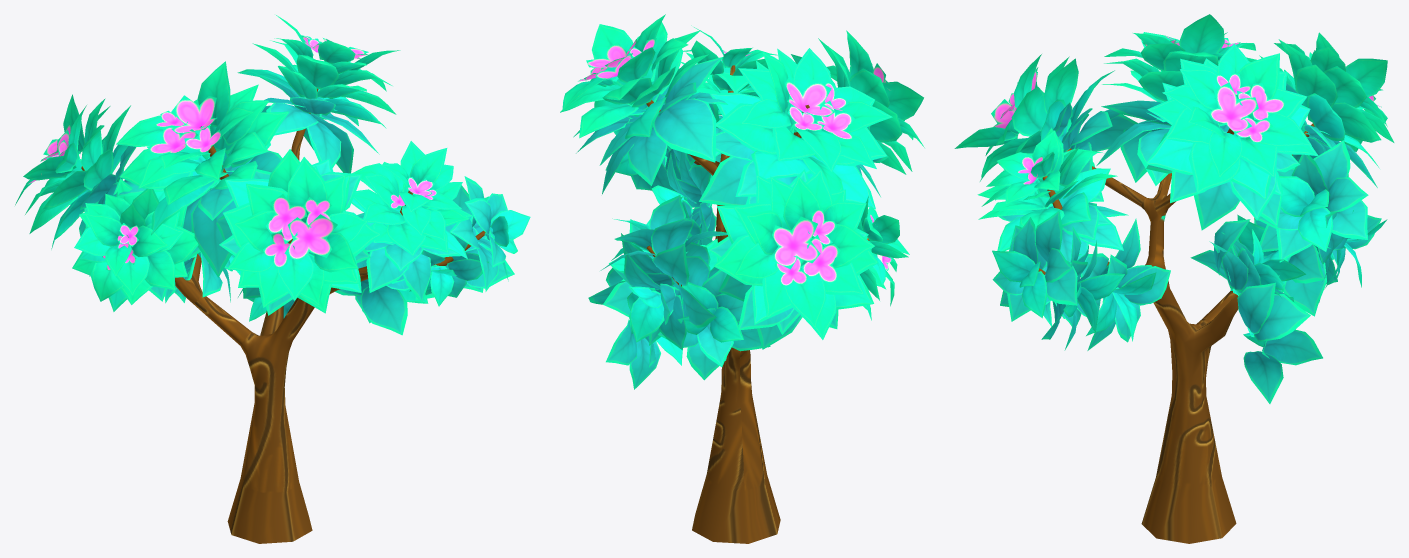
Rendered from FantasyTree.gltf.
3 renders of one model, left to right at view 1: azimuth 30°, elevation 25°; view 2: azimuth 150°, elevation 25°; view 3: azimuth 270°, elevation 25°, orthographic. The views are drawn at different scales.
Parts seen in each view (by area): view 1: TRS3; view 2: TRS3; view 3: TRS3.
Part boxes in pixels (<box>): TRS3: <box>15,15,530,543</box>; TRS3: <box>560,14,924,543</box>; TRS3: <box>954,14,1394,543</box>.
Size of the model in its own units: 6.25 by 7.43 by 5.98.
Materials: 1 (1 with a texture image).
